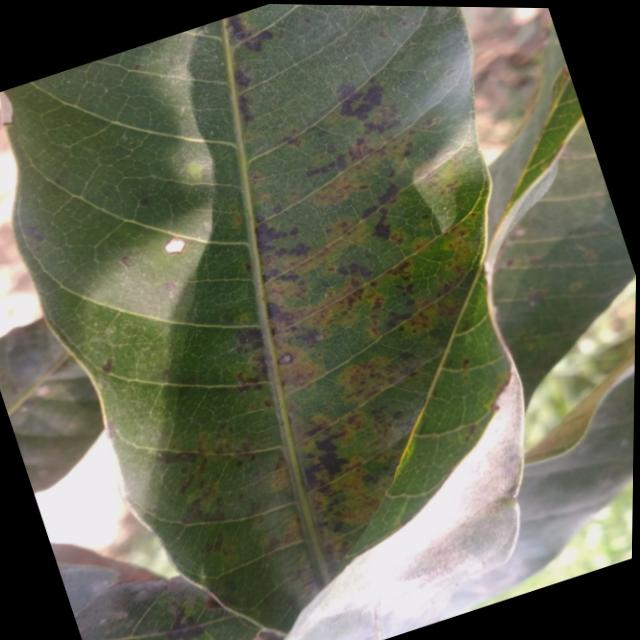Anthracnose: (202, 191, 366, 378), (248, 381, 408, 550)
black die: (311, 64, 391, 133)
